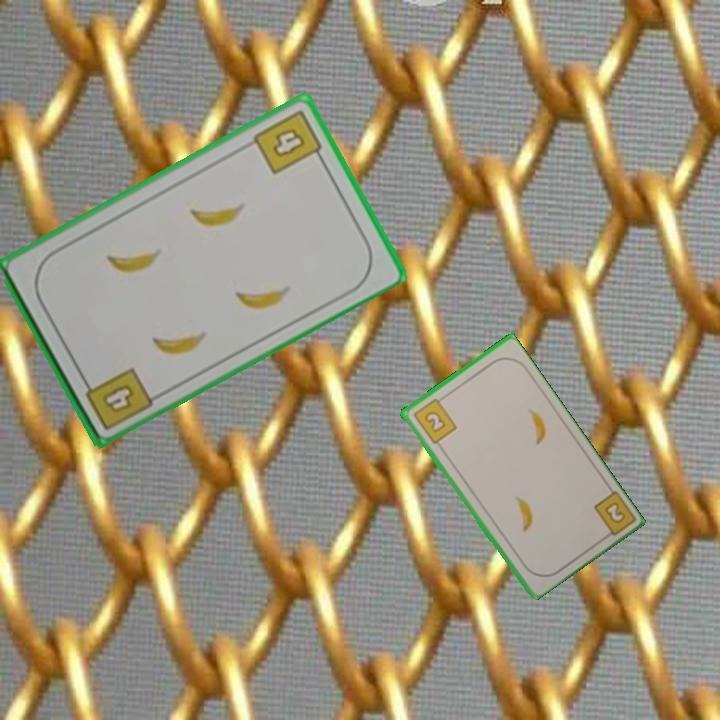2b: (409, 393, 459, 447), (590, 486, 636, 543)
4b: (249, 105, 328, 177), (78, 363, 156, 433)
